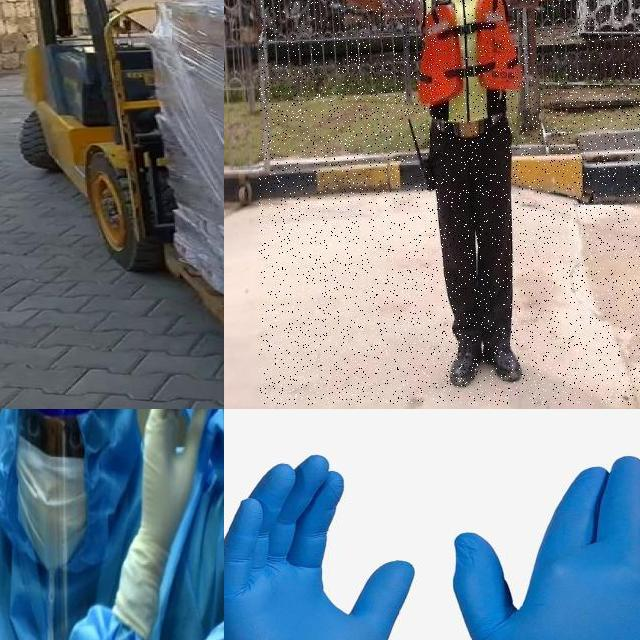BOOTS: (481, 345, 525, 385), (449, 338, 482, 390)
GLOVE: (224, 424, 422, 640), (448, 422, 640, 640)
Glove: (113, 409, 214, 546)
MASK: (16, 432, 86, 568)
VEST: (417, 0, 523, 121)
